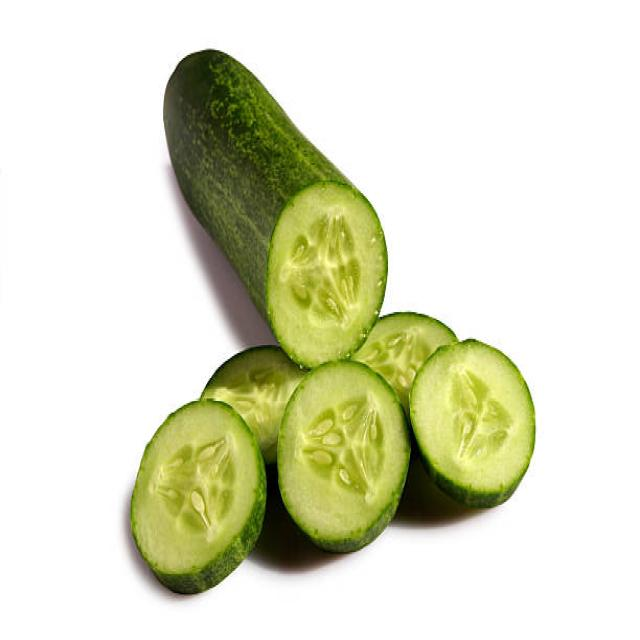cucumber: (162, 46, 388, 370)
